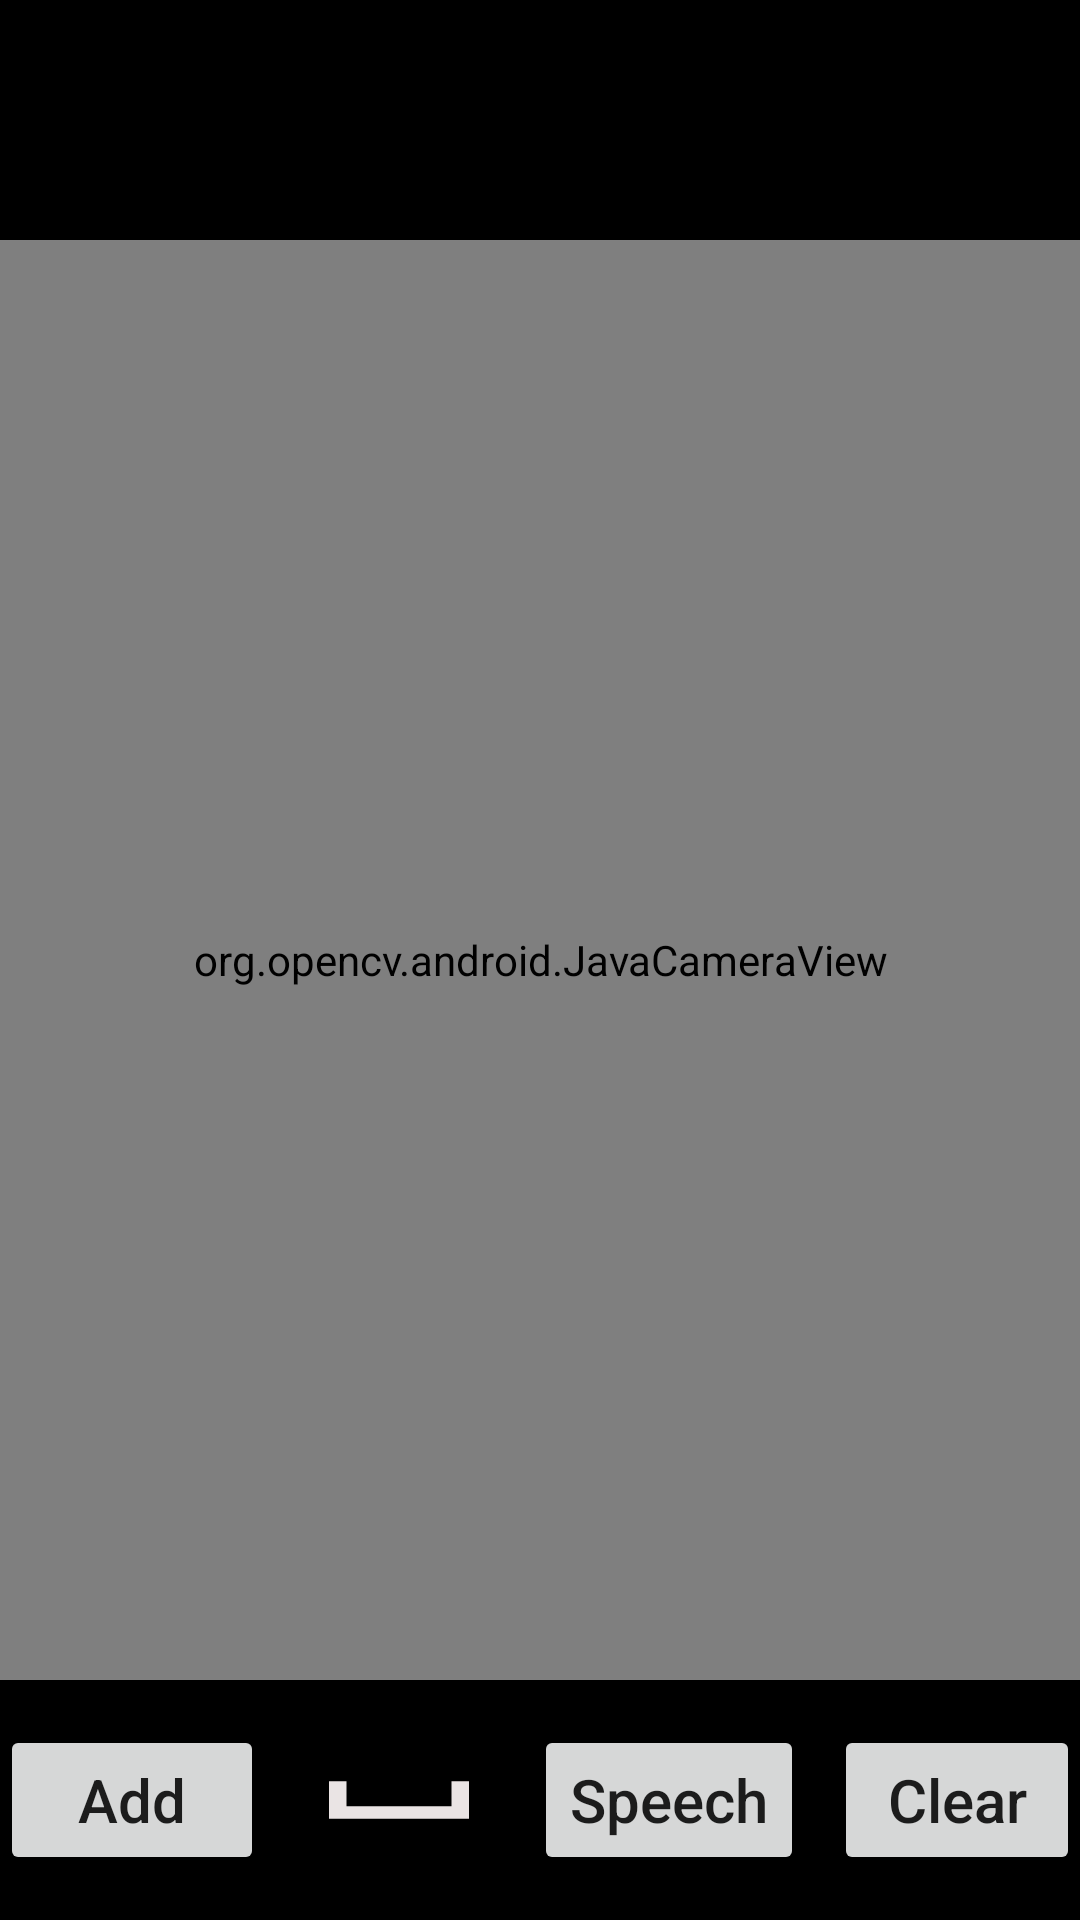

Where to tap for icons on this 1080 x 1920 app screen, as [x,y]:
space bar: [399,1800]
